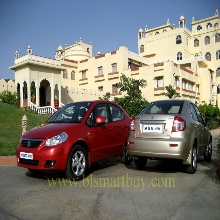no damage: (15, 100, 129, 180), (128, 100, 213, 174)
